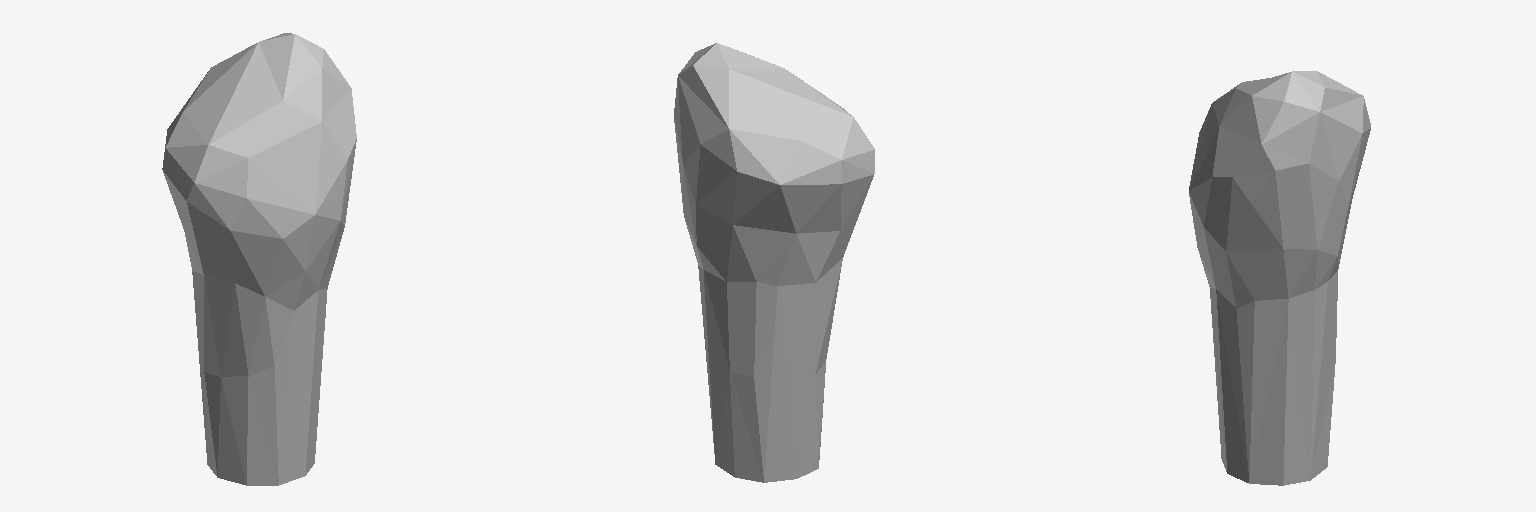
Rendered from island2.obj.
The picture shows the model from 3 angles: view 1: azimuth 30°, elevation 25°; view 2: azimuth 150°, elevation 25°; view 3: azimuth 270°, elevation 25°; orthographic projection.
Parts seen in each view (by area): view 1: Icosphere_Icosphere.001; view 2: Icosphere_Icosphere.001; view 3: Icosphere_Icosphere.001.
Boxes of the visible parts, box(x1,y1,x2,y2) form: Icosphere_Icosphere.001: box(162, 33, 356, 485); Icosphere_Icosphere.001: box(674, 43, 874, 482); Icosphere_Icosphere.001: box(1189, 71, 1370, 485).
Size of the model in its own units: 2.48 by 5.57 by 2.23.